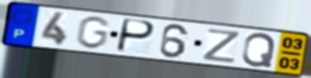4: (39, 11, 69, 48)
6: (158, 23, 191, 59)
G: (74, 15, 113, 51)
P: (113, 17, 157, 55)
Q: (240, 32, 278, 69)
Z: (200, 27, 243, 65)
